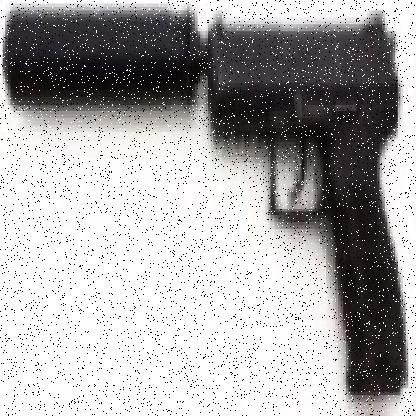pistol: (5, 7, 405, 399)
